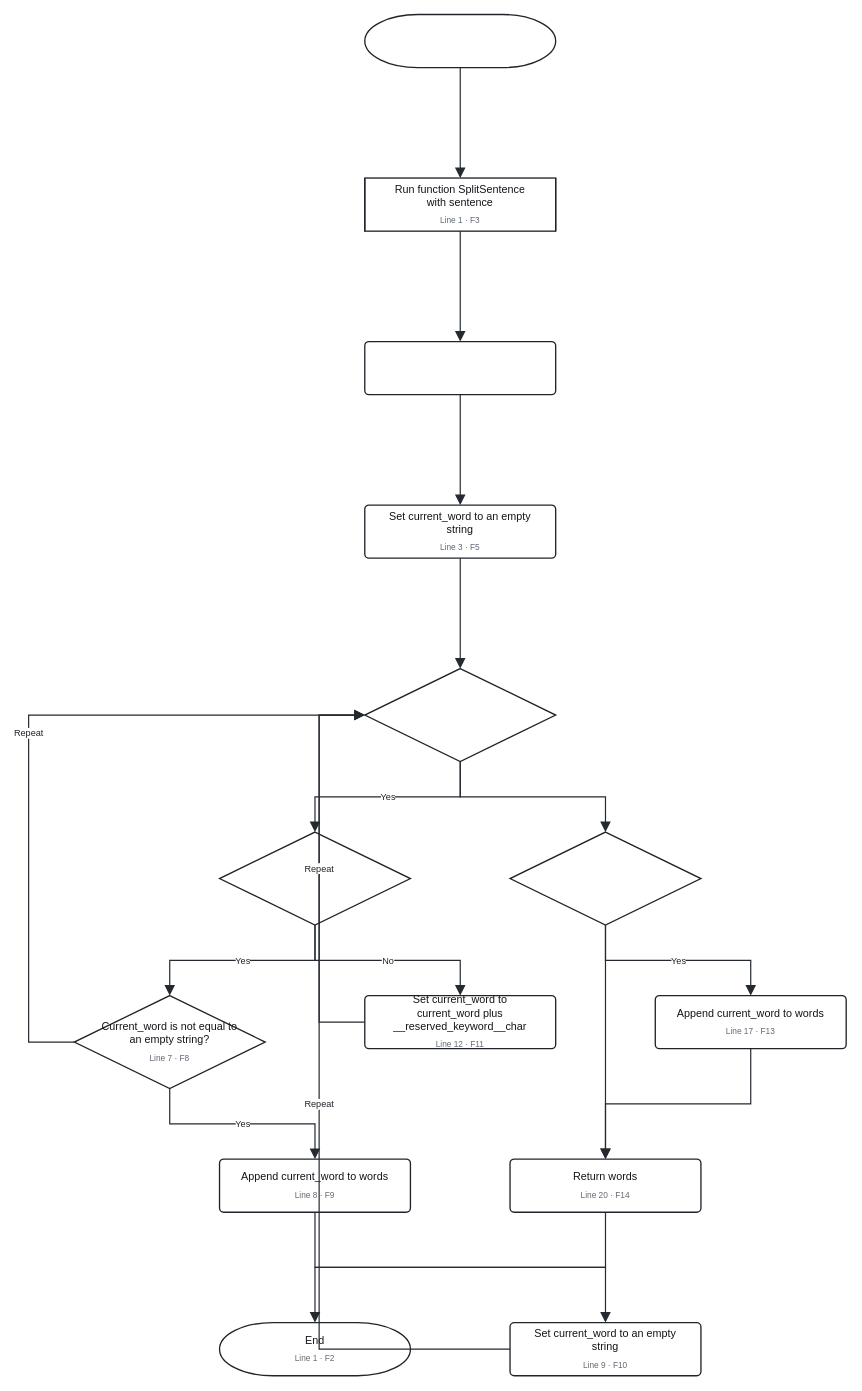
The diagram is 862 pixels wide and 1391 high, and some of its shapes have lost their labels. The shapes that lost their labels are listed below. From the top down, each one's box as (x1, y1, x2, y2) in pixels, then its label:
(364, 13, 556, 68): Start Line 1 · F1
(364, 340, 556, 395): Set words to an empty list Line 2 · F4
(364, 667, 556, 762): For each __reserved_keyword__char in sentence Line 5 · F6
(218, 831, 411, 925): __reserved_keyword__char is equal to " "? Line 6 · F7
(509, 831, 701, 925): Current_word is not equal to an empty string? Line 16 · F12
